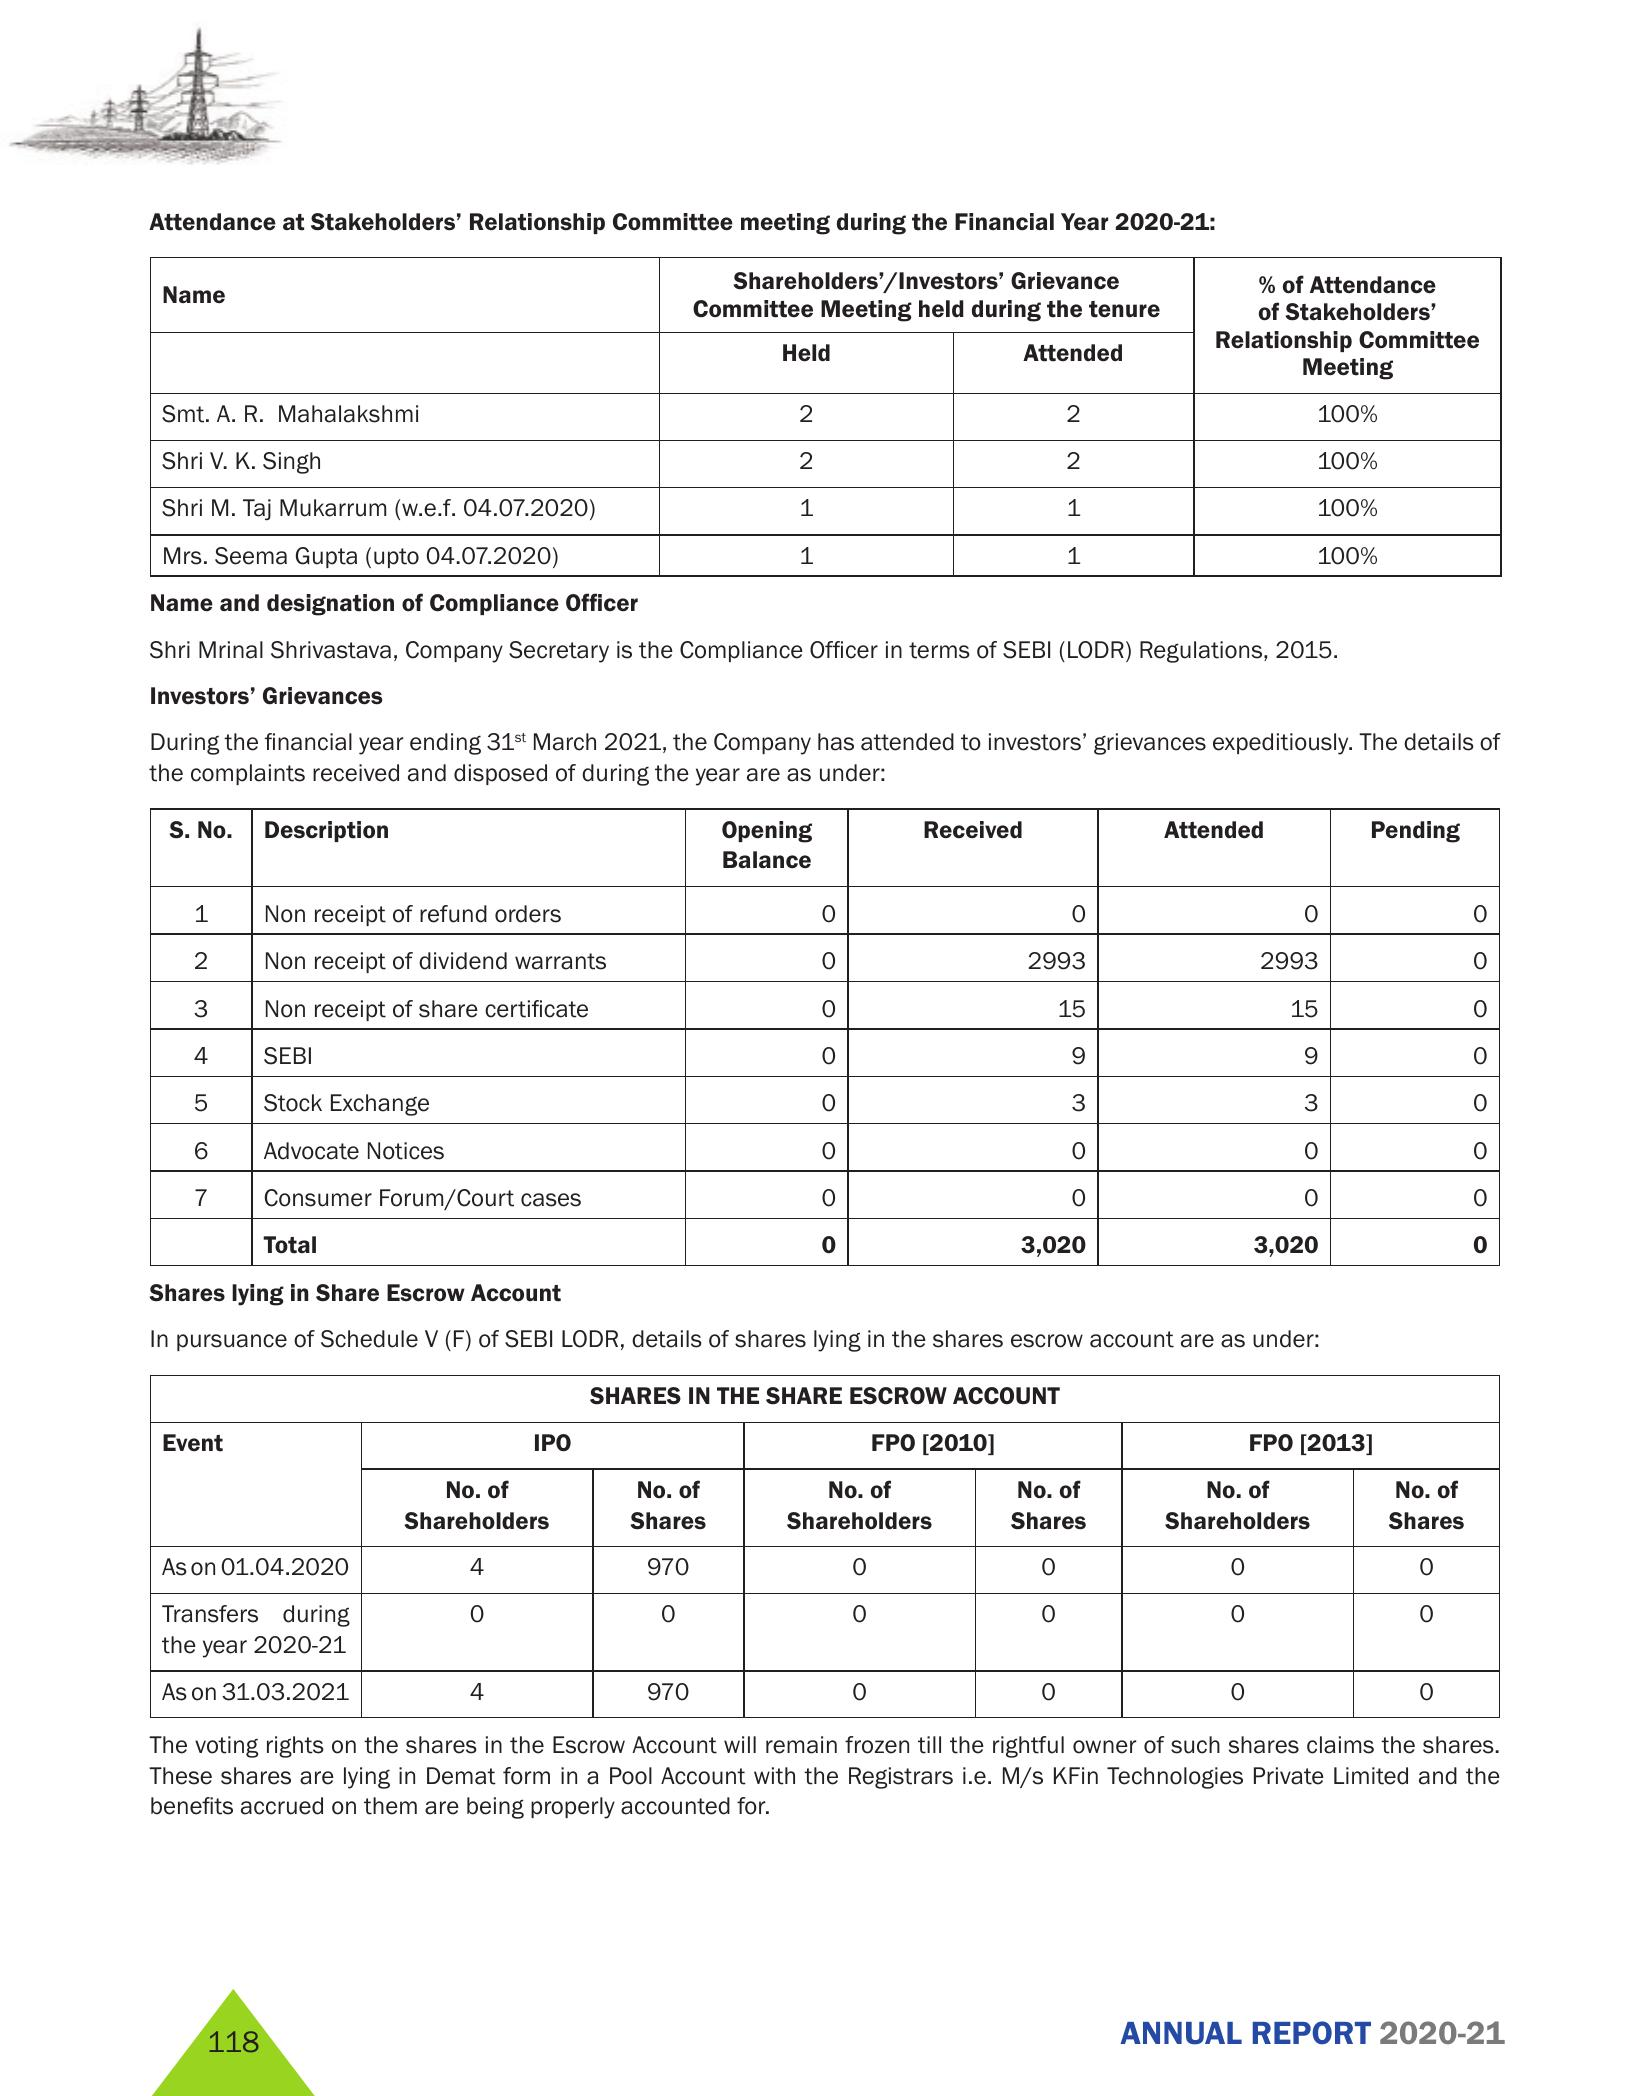Footer: (0, 1956, 1650, 2096)
Header: (0, 0, 1650, 184)
Table: (105, 805, 1524, 1283), (99, 1370, 1528, 1729), (85, 245, 1533, 589)
